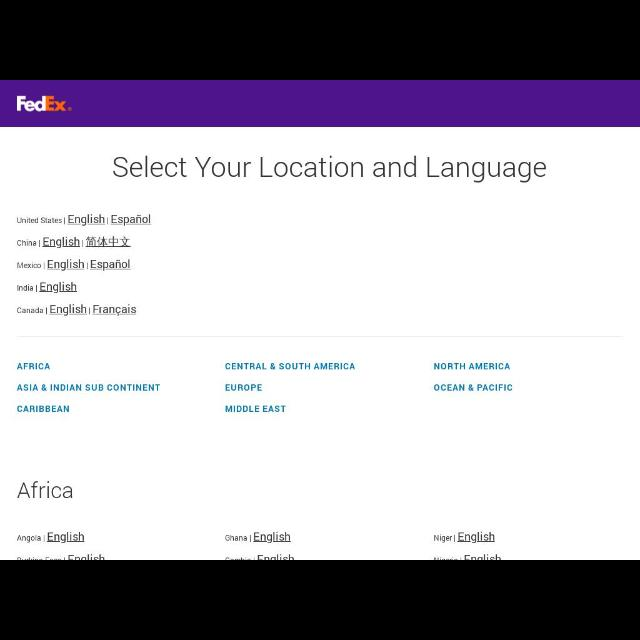image: (15, 92, 74, 114)
text: (110, 153, 548, 185), (16, 256, 132, 274), (16, 302, 138, 318), (17, 214, 154, 228), (17, 237, 134, 250), (16, 383, 160, 393), (225, 362, 357, 372), (15, 480, 76, 500), (434, 362, 511, 373), (16, 531, 86, 543), (224, 532, 292, 544), (16, 282, 80, 294), (224, 402, 286, 414), (434, 532, 496, 544), (15, 403, 70, 415), (432, 384, 514, 392), (17, 554, 105, 560), (14, 362, 52, 372), (225, 384, 262, 392), (224, 555, 296, 559), (433, 555, 502, 559)
